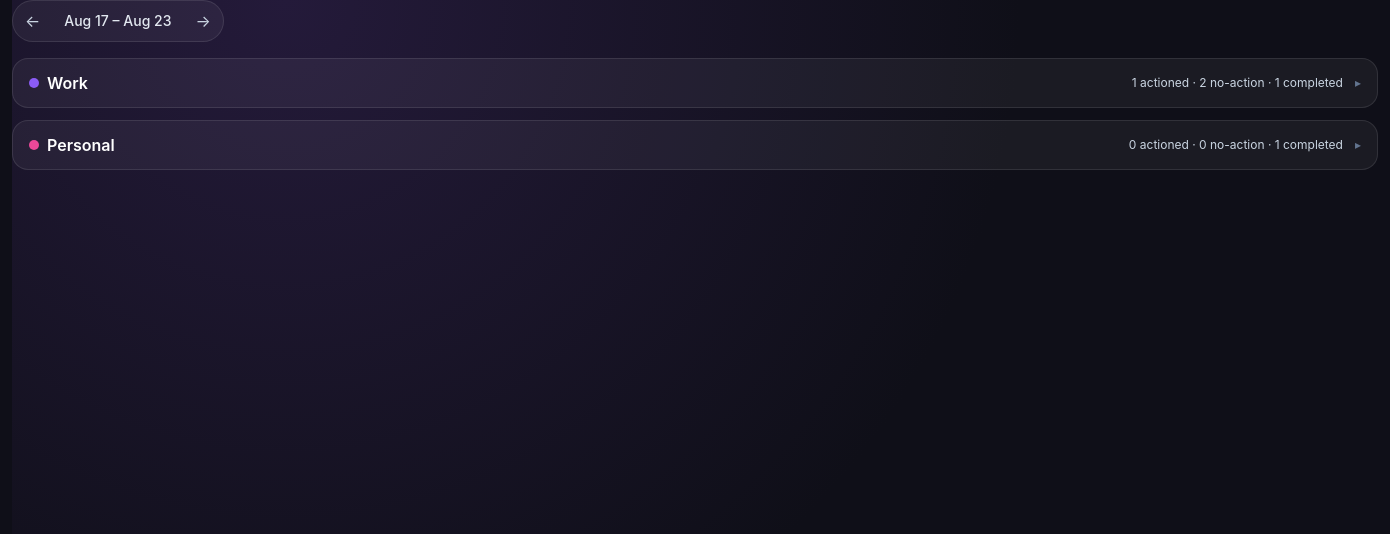
Test: SummaryView › renders no Last update line when lastSegmentBeforeCompletion is null
The image size is (1390, 534).
What coordinates should you click on to do the following:
click the text "Personal"
I would click on:
 (81, 145)
Its box is [47, 133, 115, 157].
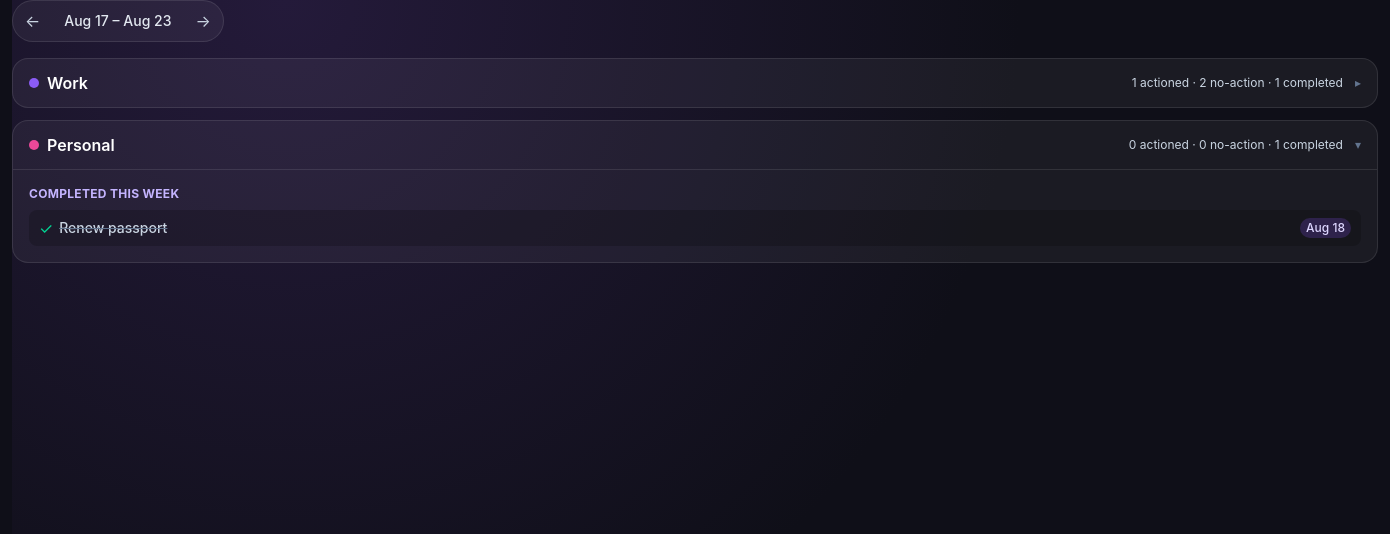
Expected: the text "Renew passport" is shown, [59, 218, 167, 238]
